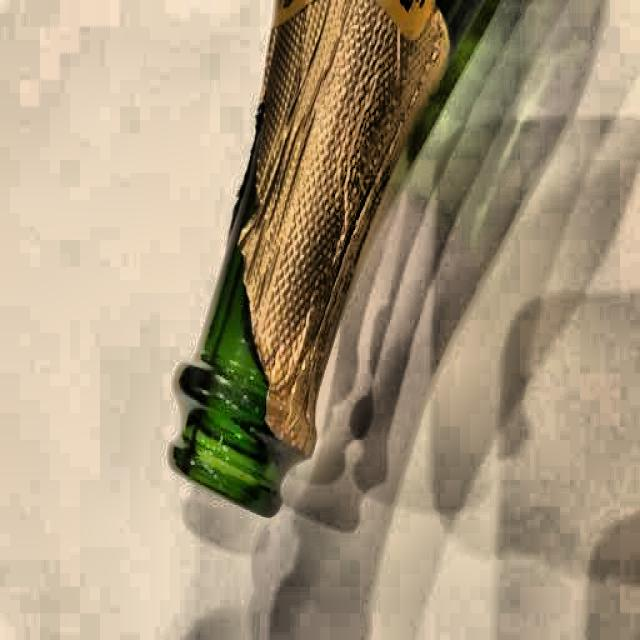glass: (166, 0, 514, 524)
